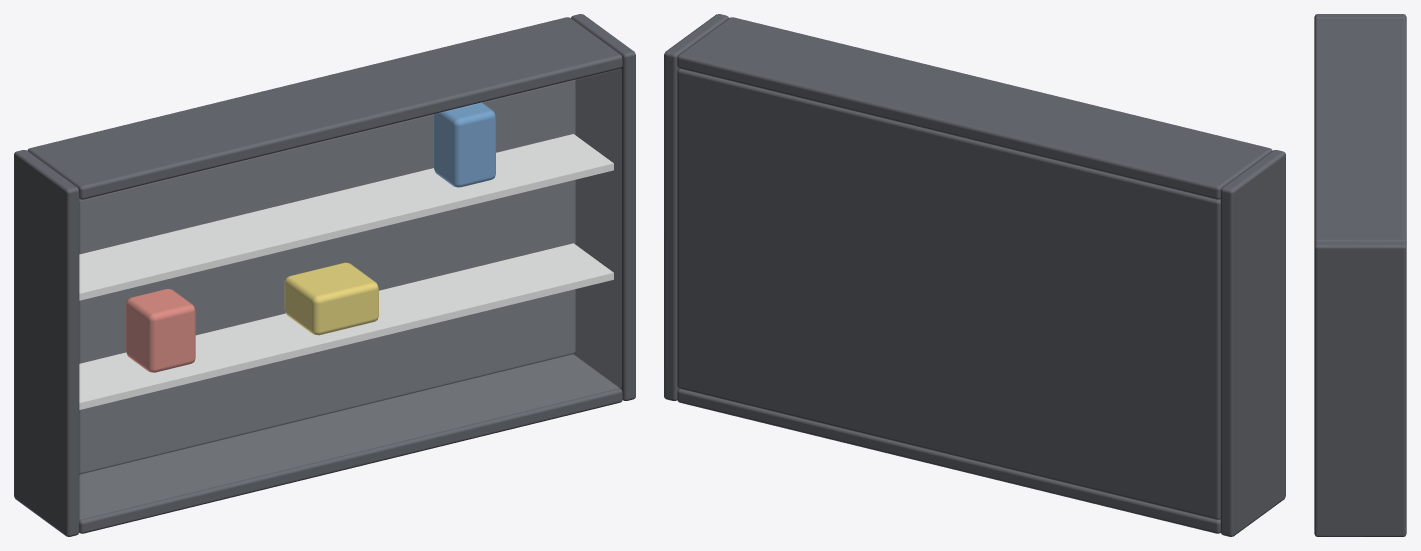
The picture shows the model from 3 angles, left to right: view 1: azimuth 30°, elevation 25°; view 2: azimuth 150°, elevation 25°; view 3: azimuth 270°, elevation 25°; orthographic projection. The views are drawn at different scales.
Visible parts, largest first — view 1: wall-display-case; view 2: wall-display-case; view 3: wall-display-case.
Part boxes in pixels (x1,y1,x2,y2): wall-display-case: (14, 14, 635, 536); wall-display-case: (664, 14, 1285, 536); wall-display-case: (1314, 14, 1406, 536).
Bounding box in the file's own units: 1.2 × 0.7 × 0.2.
